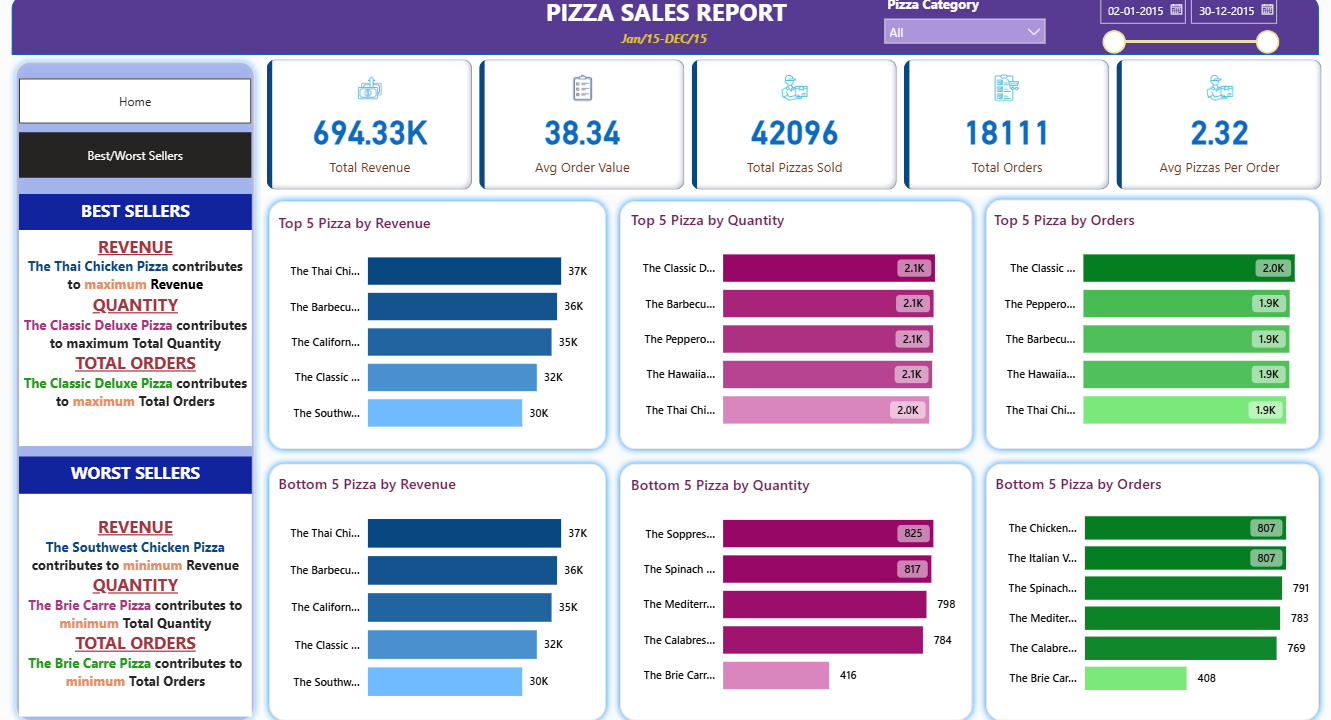

Layout of this report page (visuals, bound fields, positions):
{"tool":"powerbi","page":{"name":"Best/Worst Sellers","canvas":[1500,820],"ordinal":1},"visuals":[{"type":"shape","box":[21.4,71.4,281.4,748.6],"z":0},{"type":"cardVisual","fields":{"Data":["pizza_sales.Total Revenue","pizza_sales.Avg Order Value","pizza_sales.Total Pizzas Sold","pizza_sales.Total Orders","pizza_sales.Avg Pizzas Per Oredr"]},"box":[302.9,71.4,1182.9,155.7],"z":1000},{"type":"shape","box":[24.3,4.3,1452.9,67.1],"z":2000},{"type":"textbox","box":[580,0,337.5,67.5],"z":3000},{"type":"textbox","box":[644.3,38.6,210,28.6],"z":4000},{"type":"shape","box":[302.9,227.1,390,291.4],"z":5000},{"type":"textbox","box":[32.9,227.1,258.6,40],"z":6000},{"type":"textbox","box":[32.9,267.1,258.6,240],"z":7000},{"type":"textbox","box":[32.9,518.6,258.6,41.4],"z":8000},{"type":"textbox","box":[32.9,560,258.6,247.1],"z":9000},{"type":"slicer","fields":{"Values":["pizza_sales.pizza_category"]},"box":[984.3,0,198.6,67.1],"z":10000},{"type":"slicer","fields":{"Values":["pizza_sales.order_date"]},"box":[1221.4,0,220,82.9],"z":11000},{"type":"shape","box":[692.9,227.1,407.1,291.4],"z":12000},{"type":"shape","box":[1100,225.7,385.7,292.9],"z":13000},{"type":"shape","box":[302.9,518.6,390,301.4],"z":14000},{"type":"shape","box":[692.9,518.6,407.1,301.4],"z":15000},{"type":"shape","box":[1100,518.6,385.7,301.4],"z":16000},{"type":"barChart","title":"Top 5 Pizza by Revenue","fields":{"Category":["pizza_sales.pizza_name"],"Y":["pizza_sales.Total Revenue"]},"box":[317.1,247.1,362.9,260],"z":17000},{"type":"barChart","title":"Bottom 5 Pizza by Revenue","fields":{"Category":["pizza_sales.pizza_name"],"Y":["pizza_sales.Total Revenue"]},"box":[317.1,537.1,362.9,270],"z":18000},{"type":"barChart","title":"Top 5 Pizza by Quantity","fields":{"Category":["pizza_sales.pizza_name"],"Y":["pizza_sales.Total Pizzas Sold"]},"box":[708.6,242.9,375.7,260],"z":19000},{"type":"barChart","title":"Bottom 5 Pizza by Quantity","fields":{"Category":["pizza_sales.pizza_name"],"Y":["pizza_sales.Total Pizzas Sold"]},"box":[708.6,538.6,375.7,260],"z":20000},{"type":"barChart","title":"Top 5 Pizza by Orders","fields":{"Category":["pizza_sales.pizza_name"],"Y":["pizza_sales.Total Orders"]},"box":[1111.4,242.9,364.3,260],"z":21000},{"type":"barChart","title":"Bottom 5 Pizza by Orders","fields":{"Category":["pizza_sales.pizza_name"],"Y":["pizza_sales.Total Orders"]},"box":[1112.9,537.1,362.9,260],"z":22000},{"type":"pageNavigator","box":[33.8,158.8,258.8,50],"z":23000},{"type":"pageNavigator","box":[33.8,98.8,258.8,50],"z":24000}]}

Visuals, with their boxes in screenshot pixels (x1, y1, x2, y2), scaled from the page's 1500x820 canvas onto the 1331x720 screenshot:
shape: left=19, top=63, right=269, bottom=719
cardVisual - pizza_sales.Total Revenue x pizza_sales.Avg Order Value: left=269, top=63, right=1318, bottom=199
shape: left=22, top=4, right=1311, bottom=63
textbox: left=515, top=0, right=814, bottom=59
textbox: left=572, top=34, right=758, bottom=59
shape: left=269, top=199, right=615, bottom=455
textbox: left=29, top=199, right=259, bottom=235
textbox: left=29, top=235, right=259, bottom=445
textbox: left=29, top=455, right=259, bottom=492
textbox: left=29, top=492, right=259, bottom=709
slicer - pizza_sales.pizza_category: left=873, top=0, right=1050, bottom=59
slicer - pizza_sales.order_date: left=1084, top=0, right=1279, bottom=73
shape: left=615, top=199, right=976, bottom=455
shape: left=976, top=198, right=1318, bottom=455
shape: left=269, top=455, right=615, bottom=719
shape: left=615, top=455, right=976, bottom=719
shape: left=976, top=455, right=1318, bottom=719
"Top 5 Pizza by Revenue" barChart: left=281, top=217, right=603, bottom=445
"Bottom 5 Pizza by Revenue" barChart: left=281, top=472, right=603, bottom=709
"Top 5 Pizza by Quantity" barChart: left=629, top=213, right=962, bottom=442
"Bottom 5 Pizza by Quantity" barChart: left=629, top=473, right=962, bottom=701
"Top 5 Pizza by Orders" barChart: left=986, top=213, right=1309, bottom=442
"Bottom 5 Pizza by Orders" barChart: left=988, top=472, right=1310, bottom=700
pageNavigator: left=30, top=139, right=260, bottom=183
pageNavigator: left=30, top=87, right=260, bottom=131
